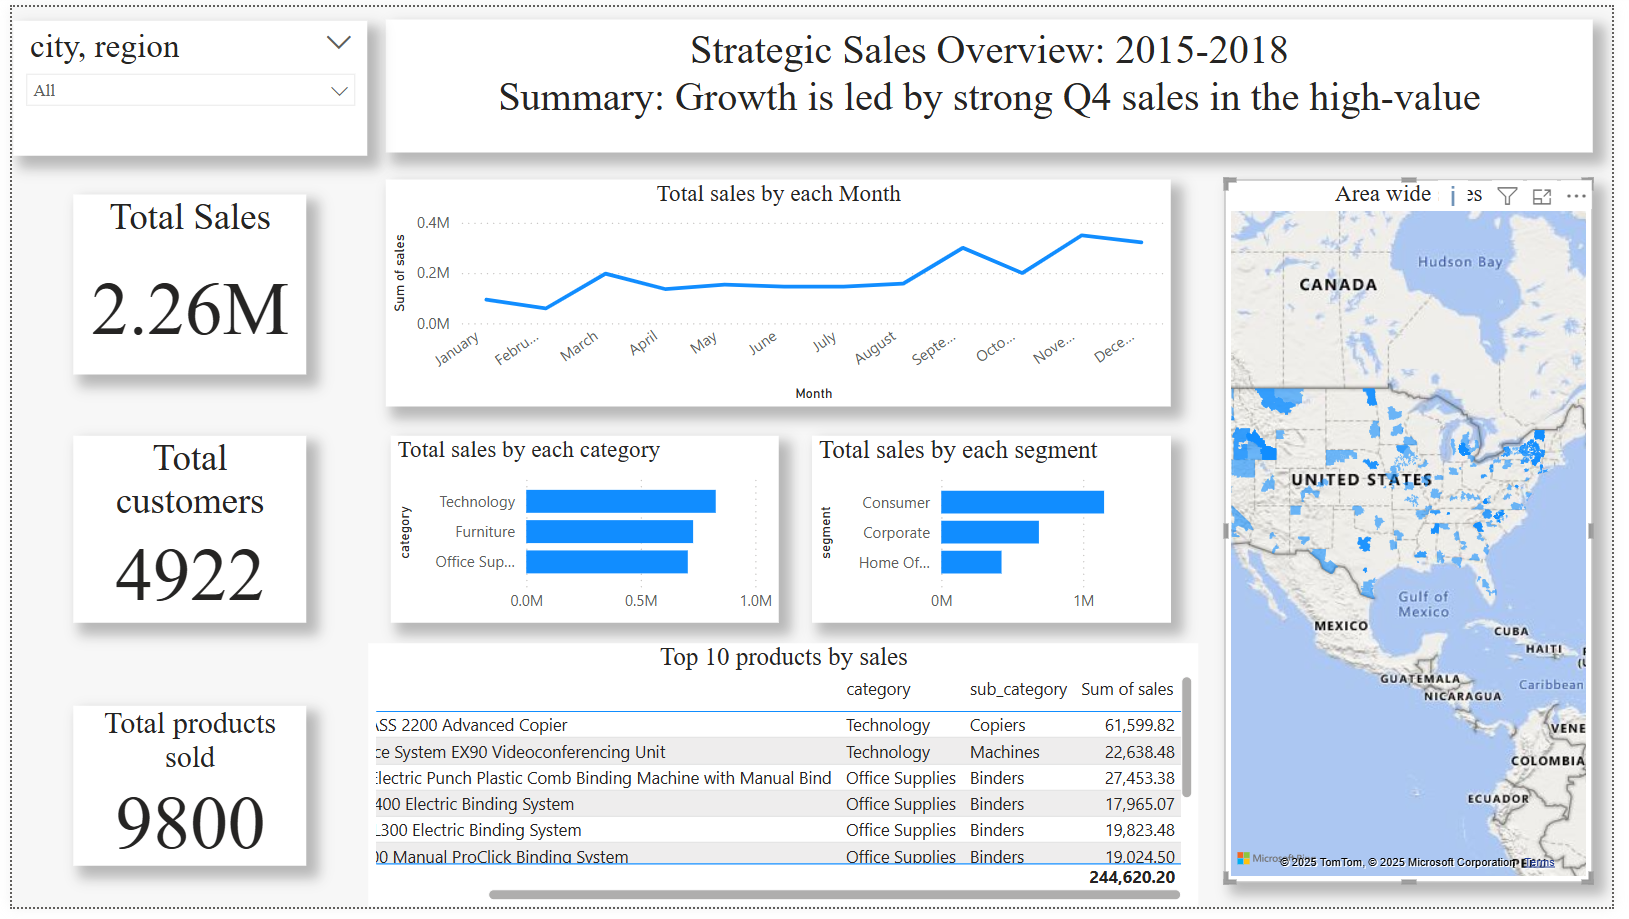

The page's visual inventory and layout, read from the dashboard file:
{"tool":"powerbi","page":{"name":"Page 1","canvas":[1280,720],"ordinal":0},"visuals":[{"type":"textbox","box":[298.8,10.5,965.1,107],"z":0},{"type":"card","title":"Total Sales","fields":{"Values":["Sum(public superstore_sales.sales)"]},"box":[48.8,150,186,144.2],"z":1000},{"type":"slicer","fields":{"Values":["public superstore_sales.region"]},"box":[1.1,11.1,283.3,107.8],"z":2000},{"type":"card","title":"Total customers","fields":{"Values":["Count(public superstore_sales.order_id)"]},"box":[48.8,343,186,150],"z":3000},{"type":"card","title":"Total products sold","fields":{"Values":["CountNonNull(public superstore_sales.product_name)"]},"box":[48.8,559.3,186,127.9],"z":4000},{"type":"lineChart","title":"Total sales by each Month","fields":{"Y":["Sum(public superstore_sales.sales)"],"Category":["public superstore_sales.order_date.Variation.Date Hierarchy.Month"]},"box":[298.8,138.4,625.6,181.4],"z":5000},{"type":"filledMap","title":"Area wide sales ","fields":{"Category":["public superstore_sales.sales"]},"box":[943,138.4,320.9,548.8],"z":6000},{"type":"barChart","title":"Total sales by each category","fields":{"Y":["Sum(public superstore_sales.sales)"],"Category":["public superstore_sales.category"]},"box":[615.1,343,309.3,150],"z":7000},{"type":"barChart","title":"Total sales by each segment","fields":{"Y":["Sum(public superstore_sales.sales)"],"Category":["public superstore_sales.segment"]},"box":[284.9,343,309.3,150],"z":8000},{"type":"tableEx","title":"Top 10 products by sales","fields":{"Values":["public superstore_sales.product_name","public superstore_sales.category","public superstore_sales.sub_category","Sum(public superstore_sales.sales)"]},"box":[298.8,509.3,625.6,177.9],"z":9000}]}

Visuals, with their boxes in screenshot pixels (x1, y1, x2, y2), scaled from the page's 1280x720 canvas onto the 1629x919 screenshot:
textbox: bbox=(380, 13, 1609, 150)
"Total Sales" card: bbox=(62, 191, 299, 376)
slicer - public superstore_sales.region: bbox=(1, 14, 362, 152)
"Total customers" card: bbox=(62, 438, 299, 629)
"Total products sold" card: bbox=(62, 714, 299, 877)
"Total sales by each Month" lineChart: bbox=(380, 177, 1176, 408)
"Area wide sales " filledMap: bbox=(1200, 177, 1609, 877)
"Total sales by each category" barChart: bbox=(783, 438, 1176, 629)
"Total sales by each segment" barChart: bbox=(363, 438, 756, 629)
"Top 10 products by sales" tableEx: bbox=(380, 650, 1176, 877)
